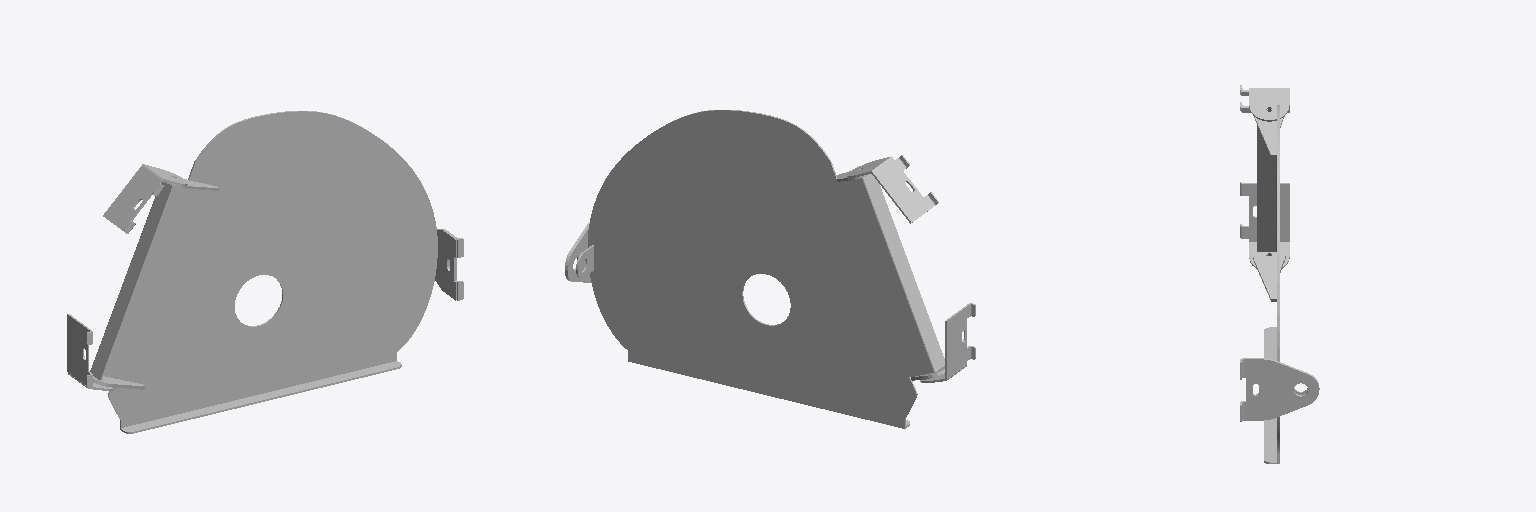
File: zamykanie.obj
3 views of the same model, side by side, from view 1: azimuth 30°, elevation 25°; view 2: azimuth 150°, elevation 25°; view 3: azimuth 270°, elevation 25° (orthographic).
Parts seen in each view (by area): view 1: Bryła388; view 2: Bryła388; view 3: Bryła388.
Boxes of the visible parts, x1=… form: Bryła388: x1=67, y1=111, x2=463, y2=433; Bryła388: x1=565, y1=110, x2=975, y2=428; Bryła388: x1=1240, y1=85, x2=1319, y2=463.
Bounding box in the file's own units: 646 × 459 × 117.